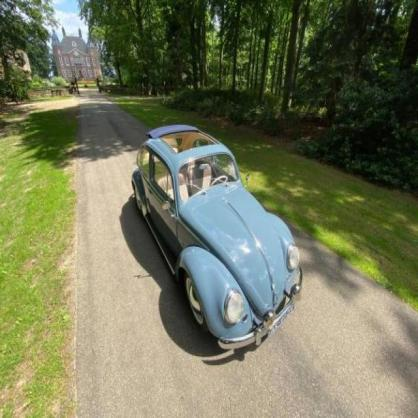car: (130, 124, 305, 357)
